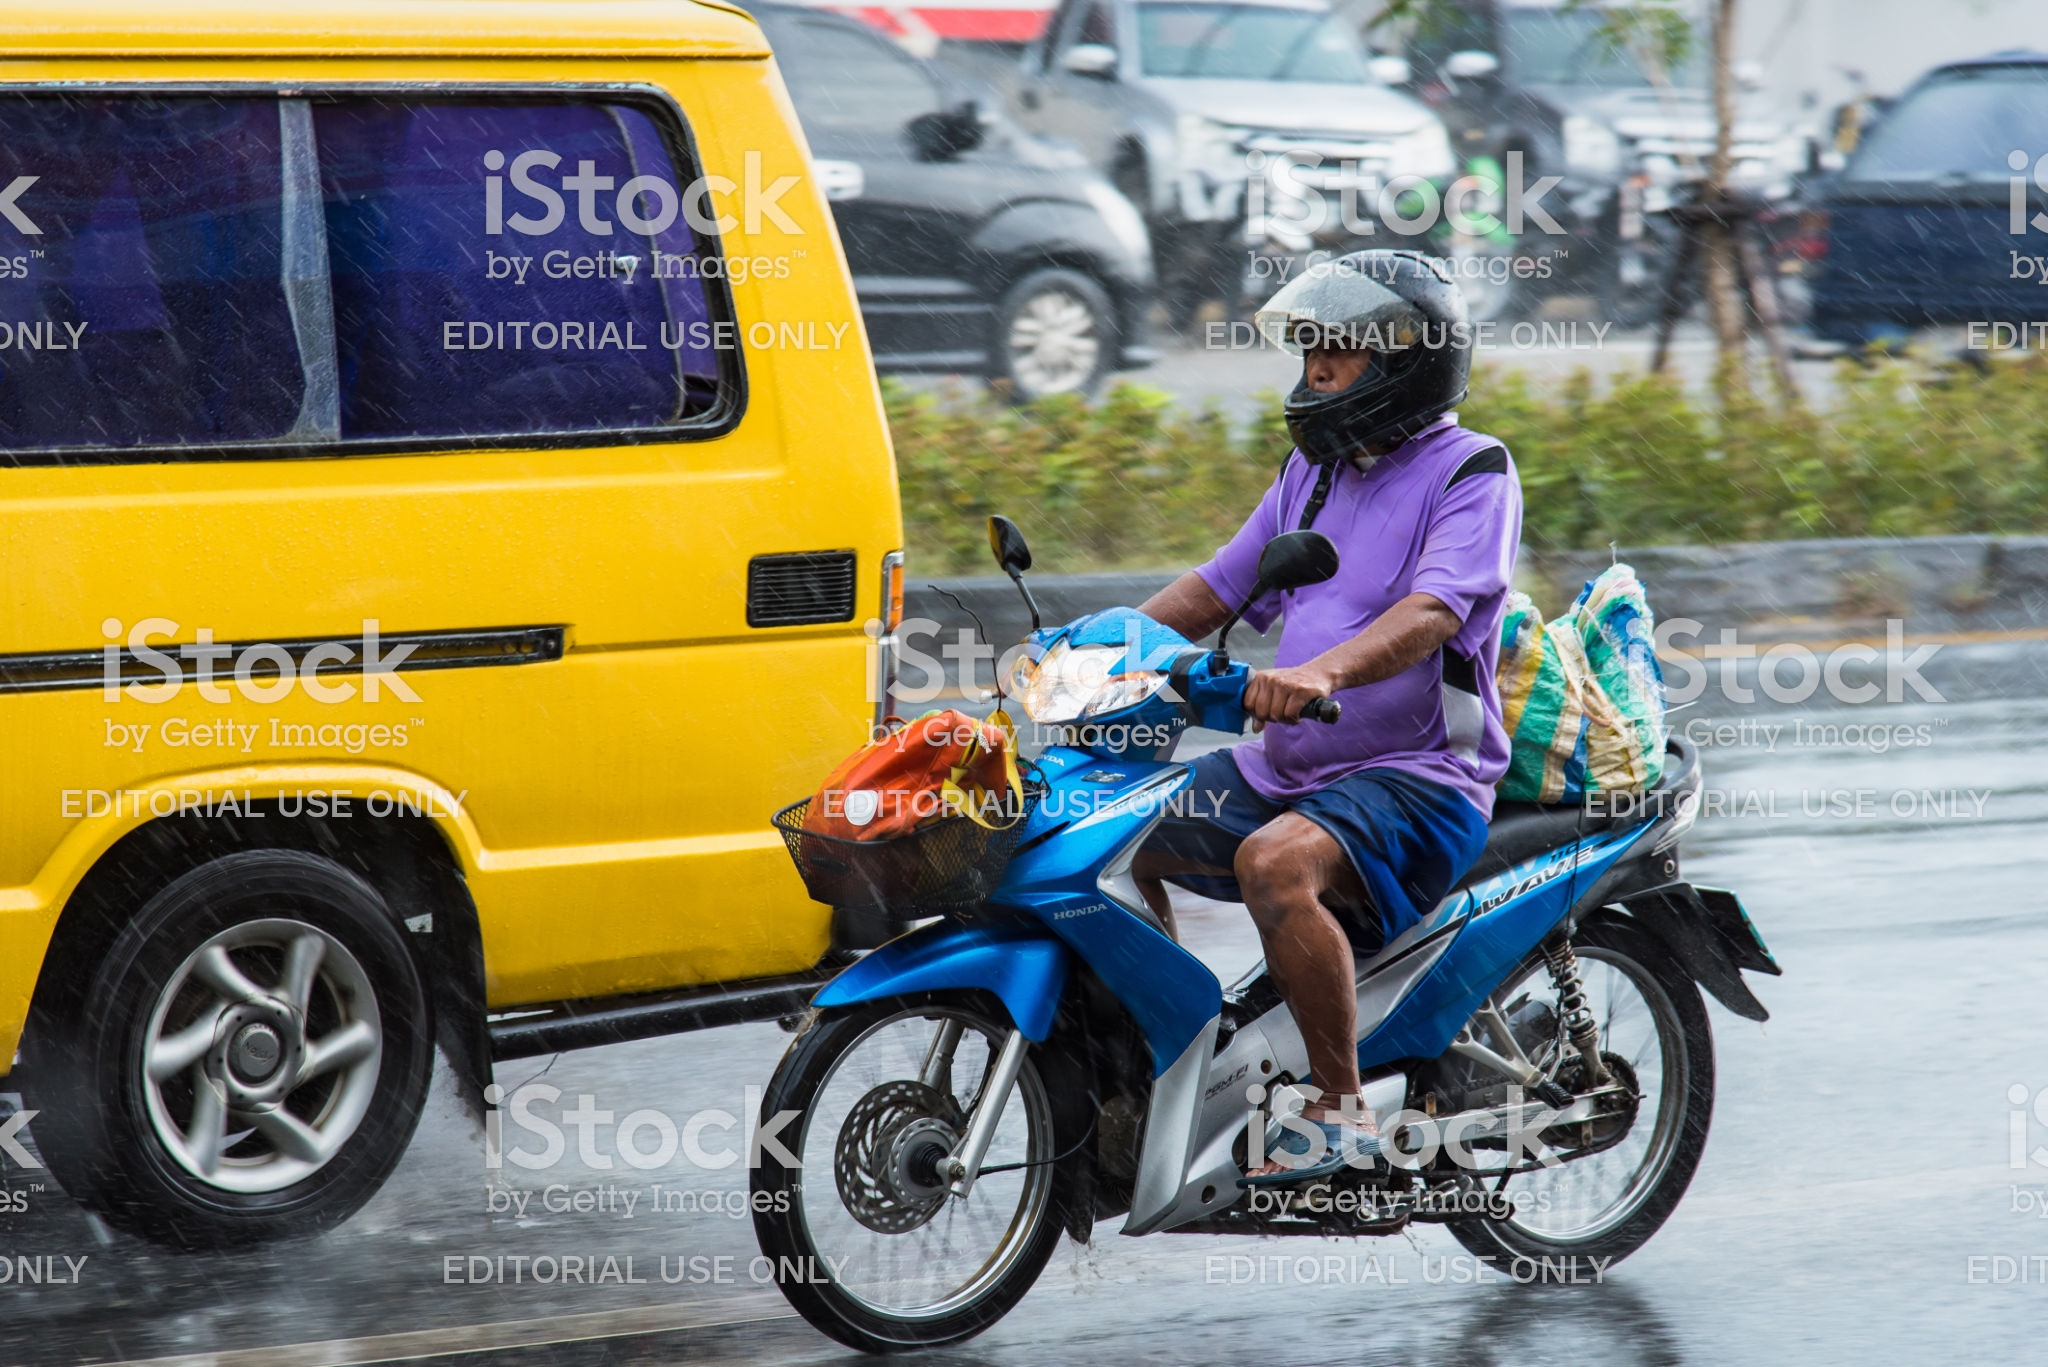helmet: (1263, 246, 1478, 442)
